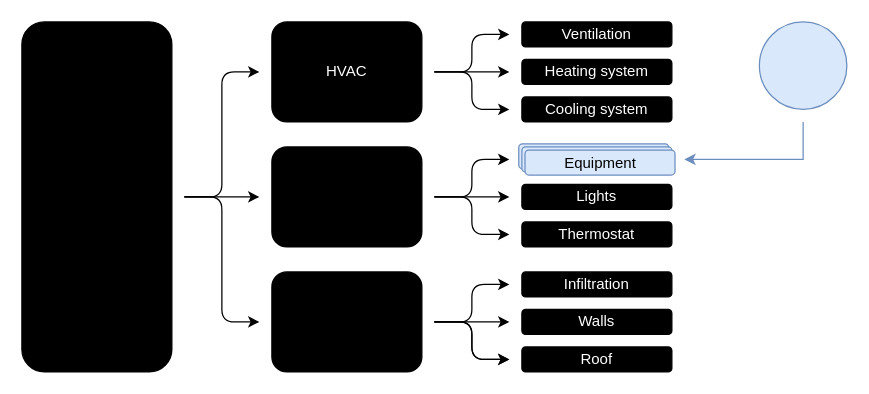
Some shapes in this 869 by 394 pixel diagram are drawn without their labels. Here are the shapes that lost their labels. From the top down, the centre of each, then its label:
At (802,65): "Income Level".
At (96,196): "Building".
At (346,196): "Space use".
At (346,321): "Envelope".
